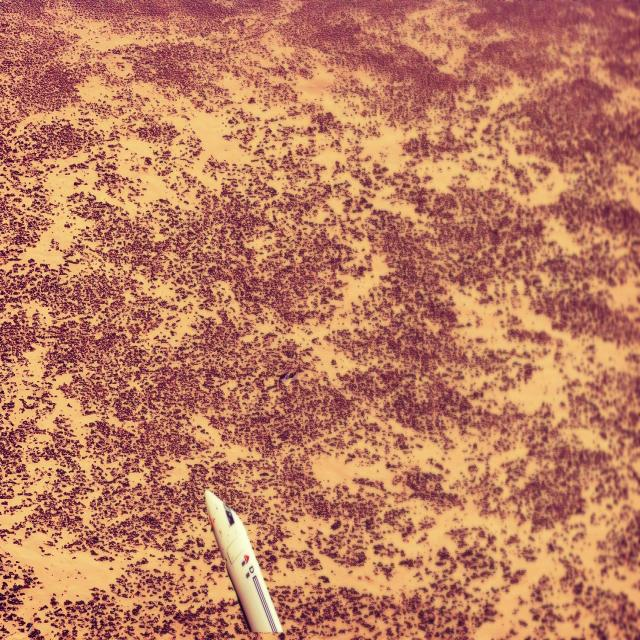airplane: (204, 488, 284, 636)
